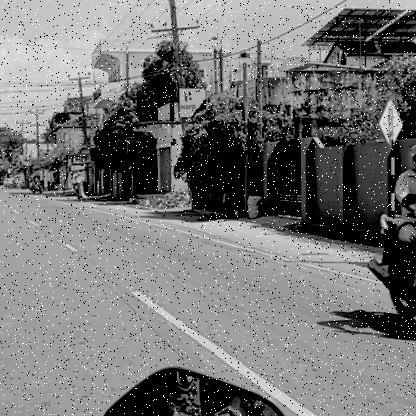motorcycle: (364, 198, 416, 348)
